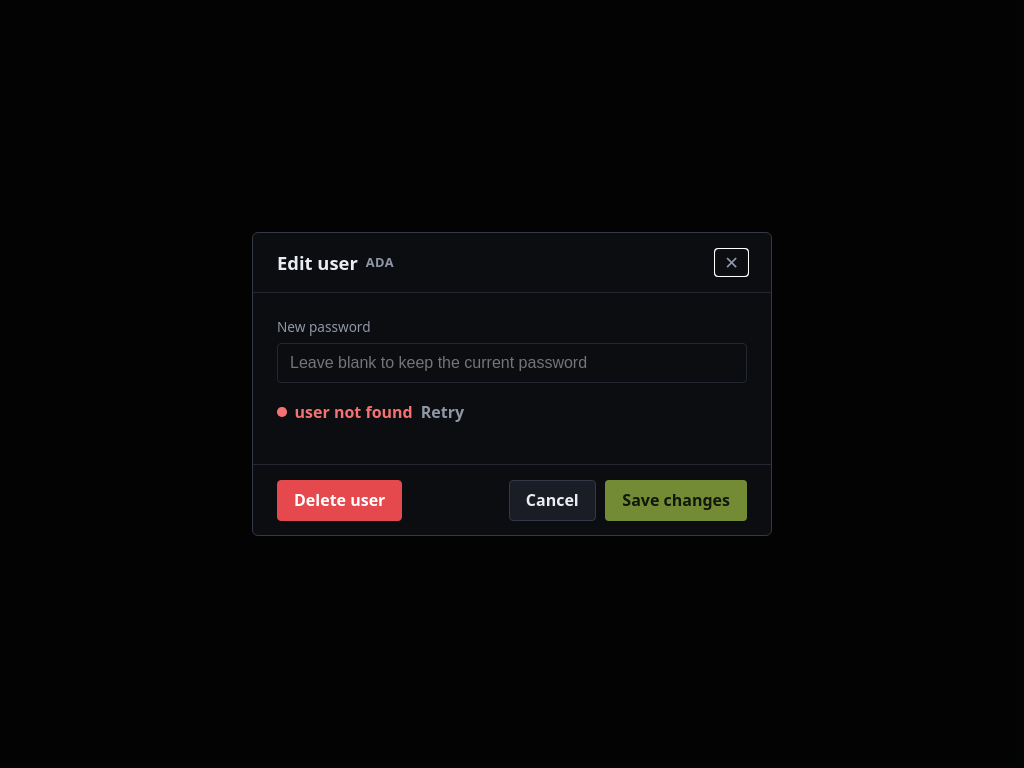
Scenario: EditUserDialog — library grants (Member) › surfaces a load failure with a retry, then recovers
This screenshot has width=1024, height=768.
Expected: the message with test id "library-access-load-error" shows "user not found", [295,401,413,423]
Click the button with test id "library-access-retry": coordinates (442, 412) [421,400,464,424]
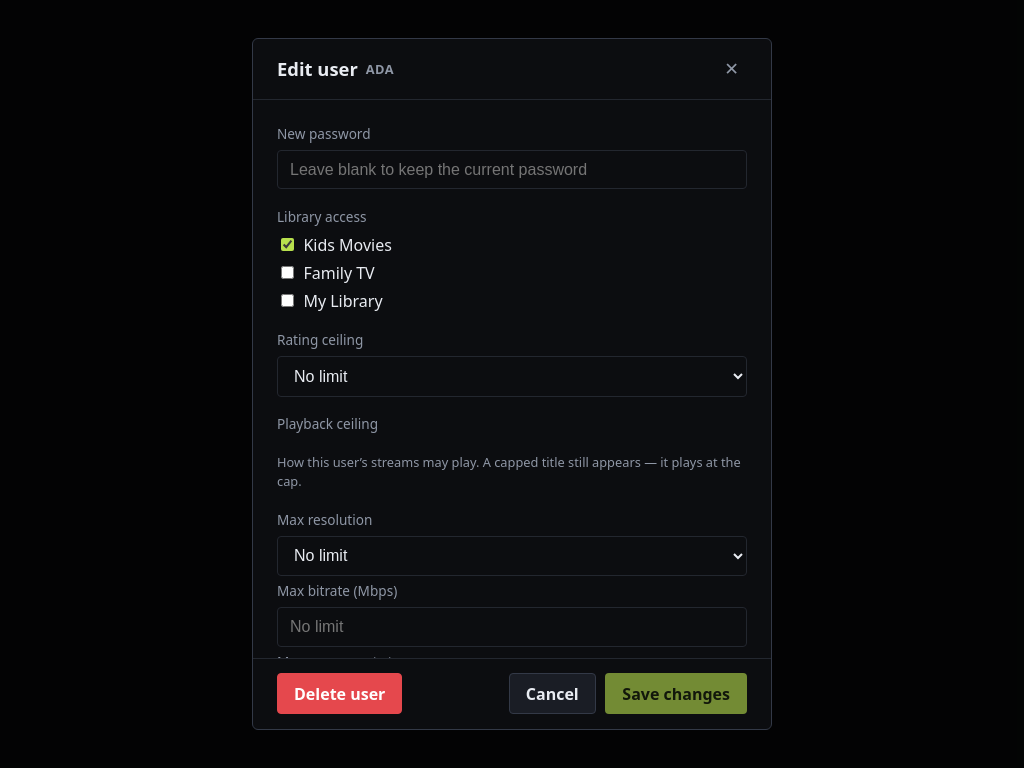
Expected: the list with test id "library-checklist" is shown, [281,234,392,312]
Expected: the checkbox with test id "library-checkbox-l1" is checked, [281,238,294,251]
